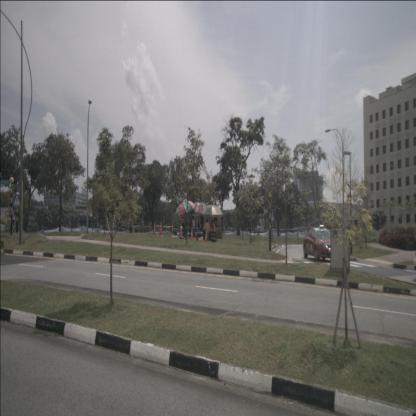movable_object-trafficcone: (158, 221, 163, 237), (190, 227, 194, 241), (152, 222, 156, 235), (180, 226, 183, 239), (205, 230, 208, 242)
vehicle-car: (303, 227, 336, 261)
